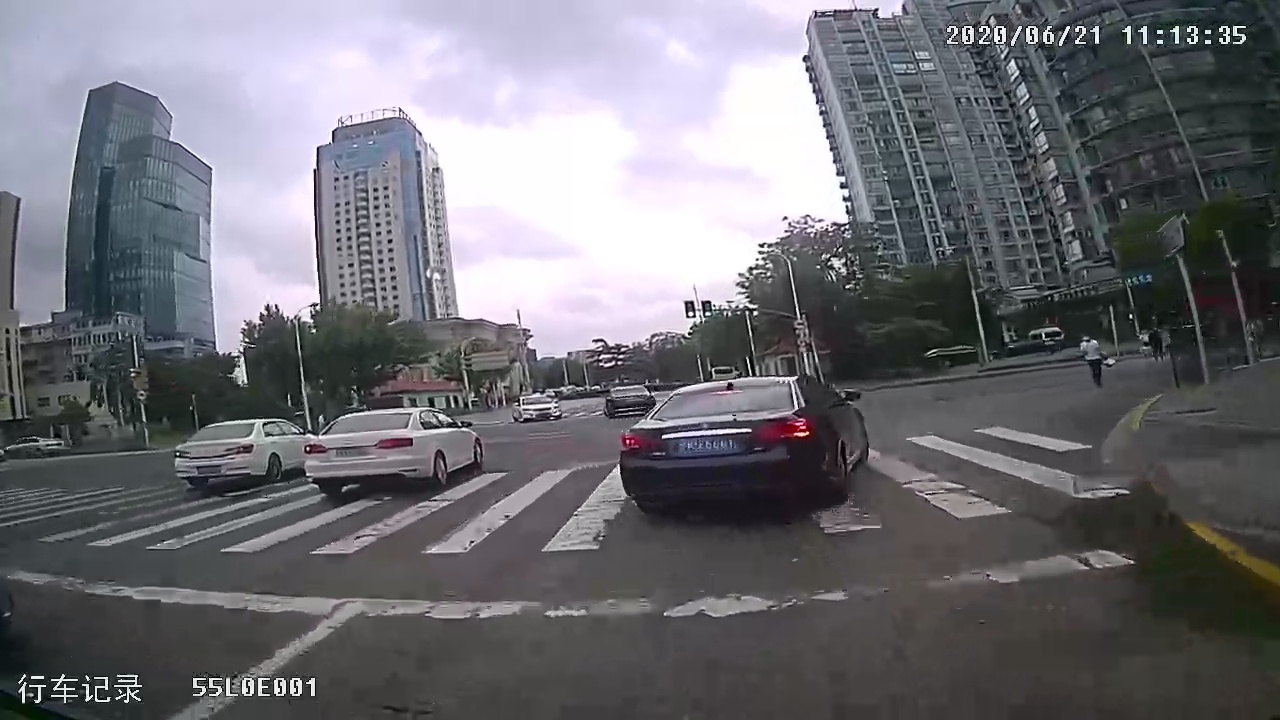crosswalk: (55, 440, 1122, 550)
